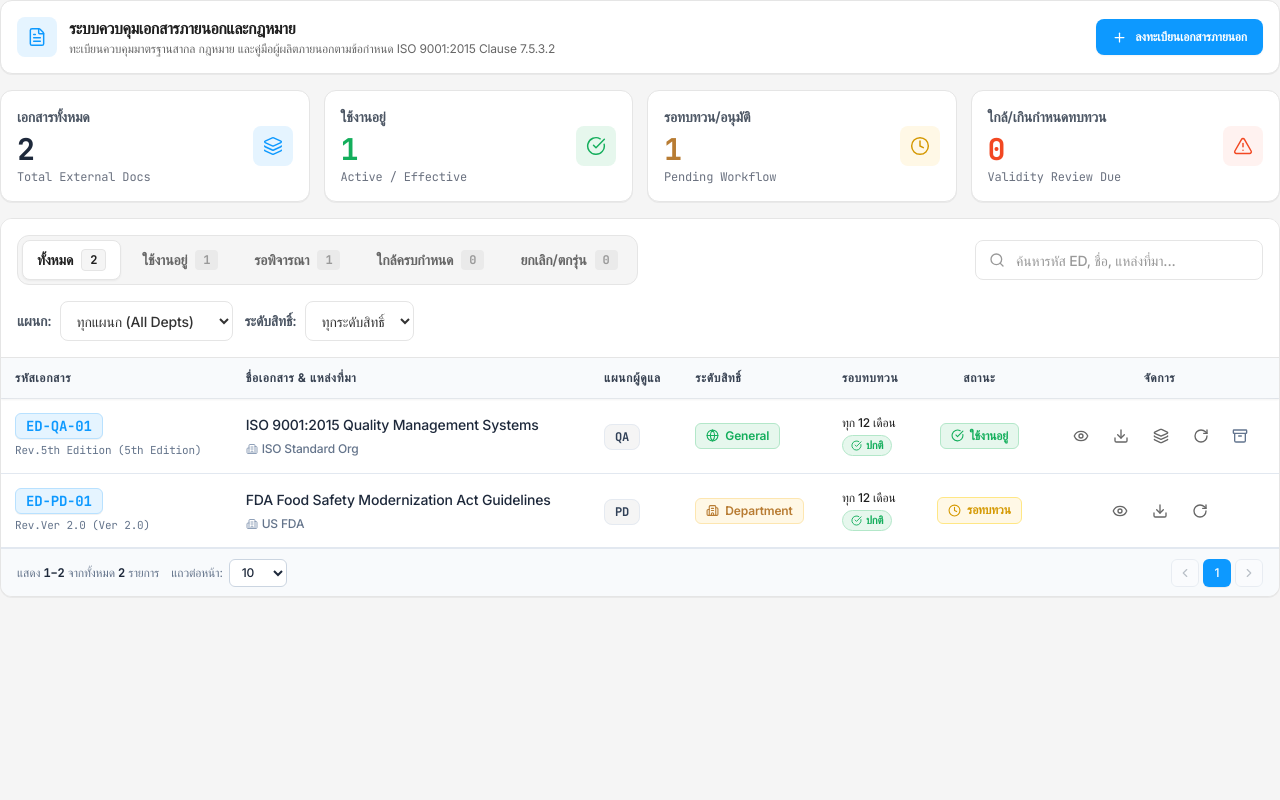
Test: ExternalDocsList Full-Width Layout & Component Structure Tests › 3. Renders full-width data table with search and filters
The width and height of the screenshot is (1280, 800).
Expected: the text "ED-QA-01" is shown, [15,413,103,439]
Expected: the text "ISO 9001:2015 Quality Management Systems" is shown, [246,414,576,437]
Filter by search
Type "FDA" into the field with placeholder "ค้นหารหัส ED, ชื่อ, แหล่งที่มา..." at coordinates (1119, 260), box [975,240,1263,280]
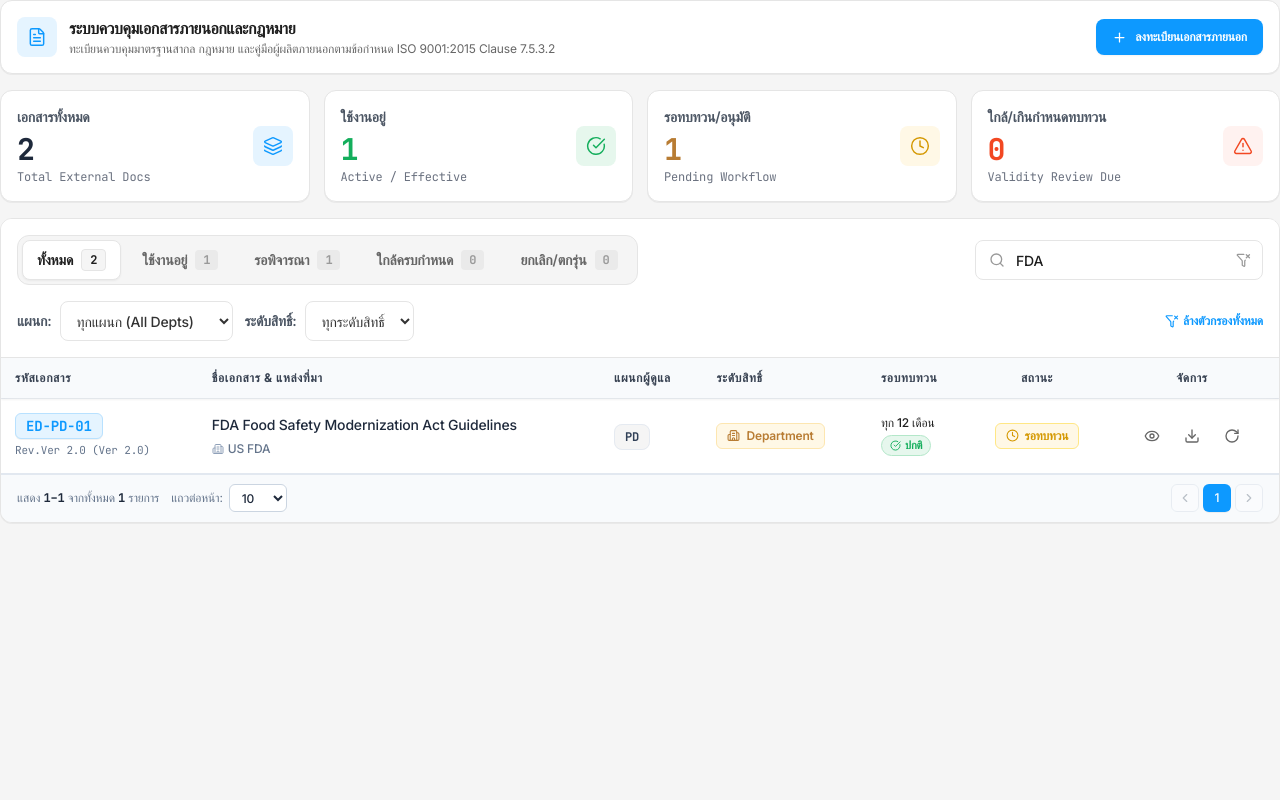
Expected: the text "ED-PD-01" is shown, [15,413,103,439]
Expected: the text "ED-QA-01" is gone
